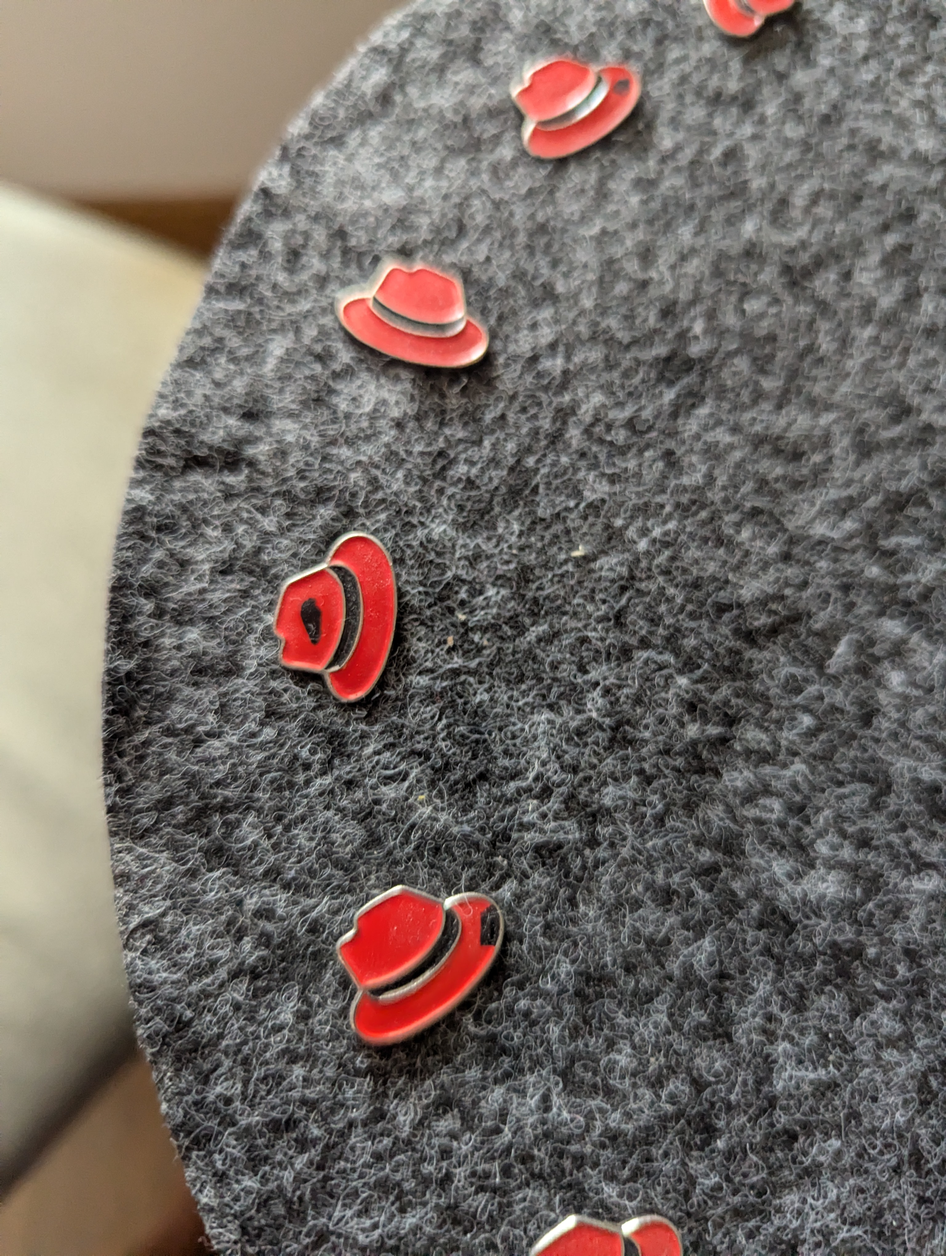Red-Hat: (311, 861, 525, 1061), (256, 511, 415, 713), (328, 255, 515, 388), (490, 45, 659, 170), (512, 1191, 697, 1256)
Scratch: (283, 577, 342, 648), (458, 893, 508, 967), (605, 72, 656, 108)
